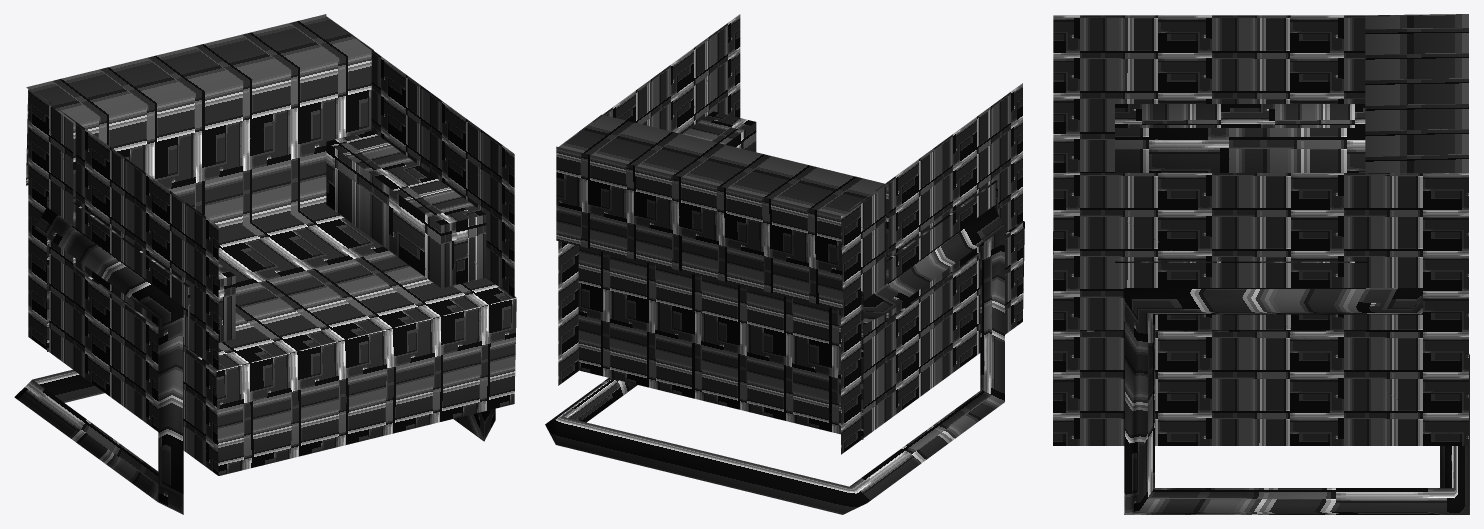
File: 3109IMRL08_08.gltf
The picture shows the model from 3 angles, left to right: view 1: azimuth 30°, elevation 25°; view 2: azimuth 150°, elevation 25°; view 3: azimuth 270°, elevation 25°; orthographic projection. The views are drawn at different scales.
Visible parts, largest first — view 1: 3109IMRL08_08; view 2: 3109IMRL08_08; view 3: 3109IMRL08_08.
Boxes of the visible parts, bbox=[...] form: 3109IMRL08_08: bbox=[14, 14, 516, 514]; 3109IMRL08_08: bbox=[545, 14, 1024, 514]; 3109IMRL08_08: bbox=[1053, 14, 1469, 514].
Bounding box in the file's own units: 0.9165 × 0.8101 × 0.8975.
Materials: 1 (1 with a texture image).
